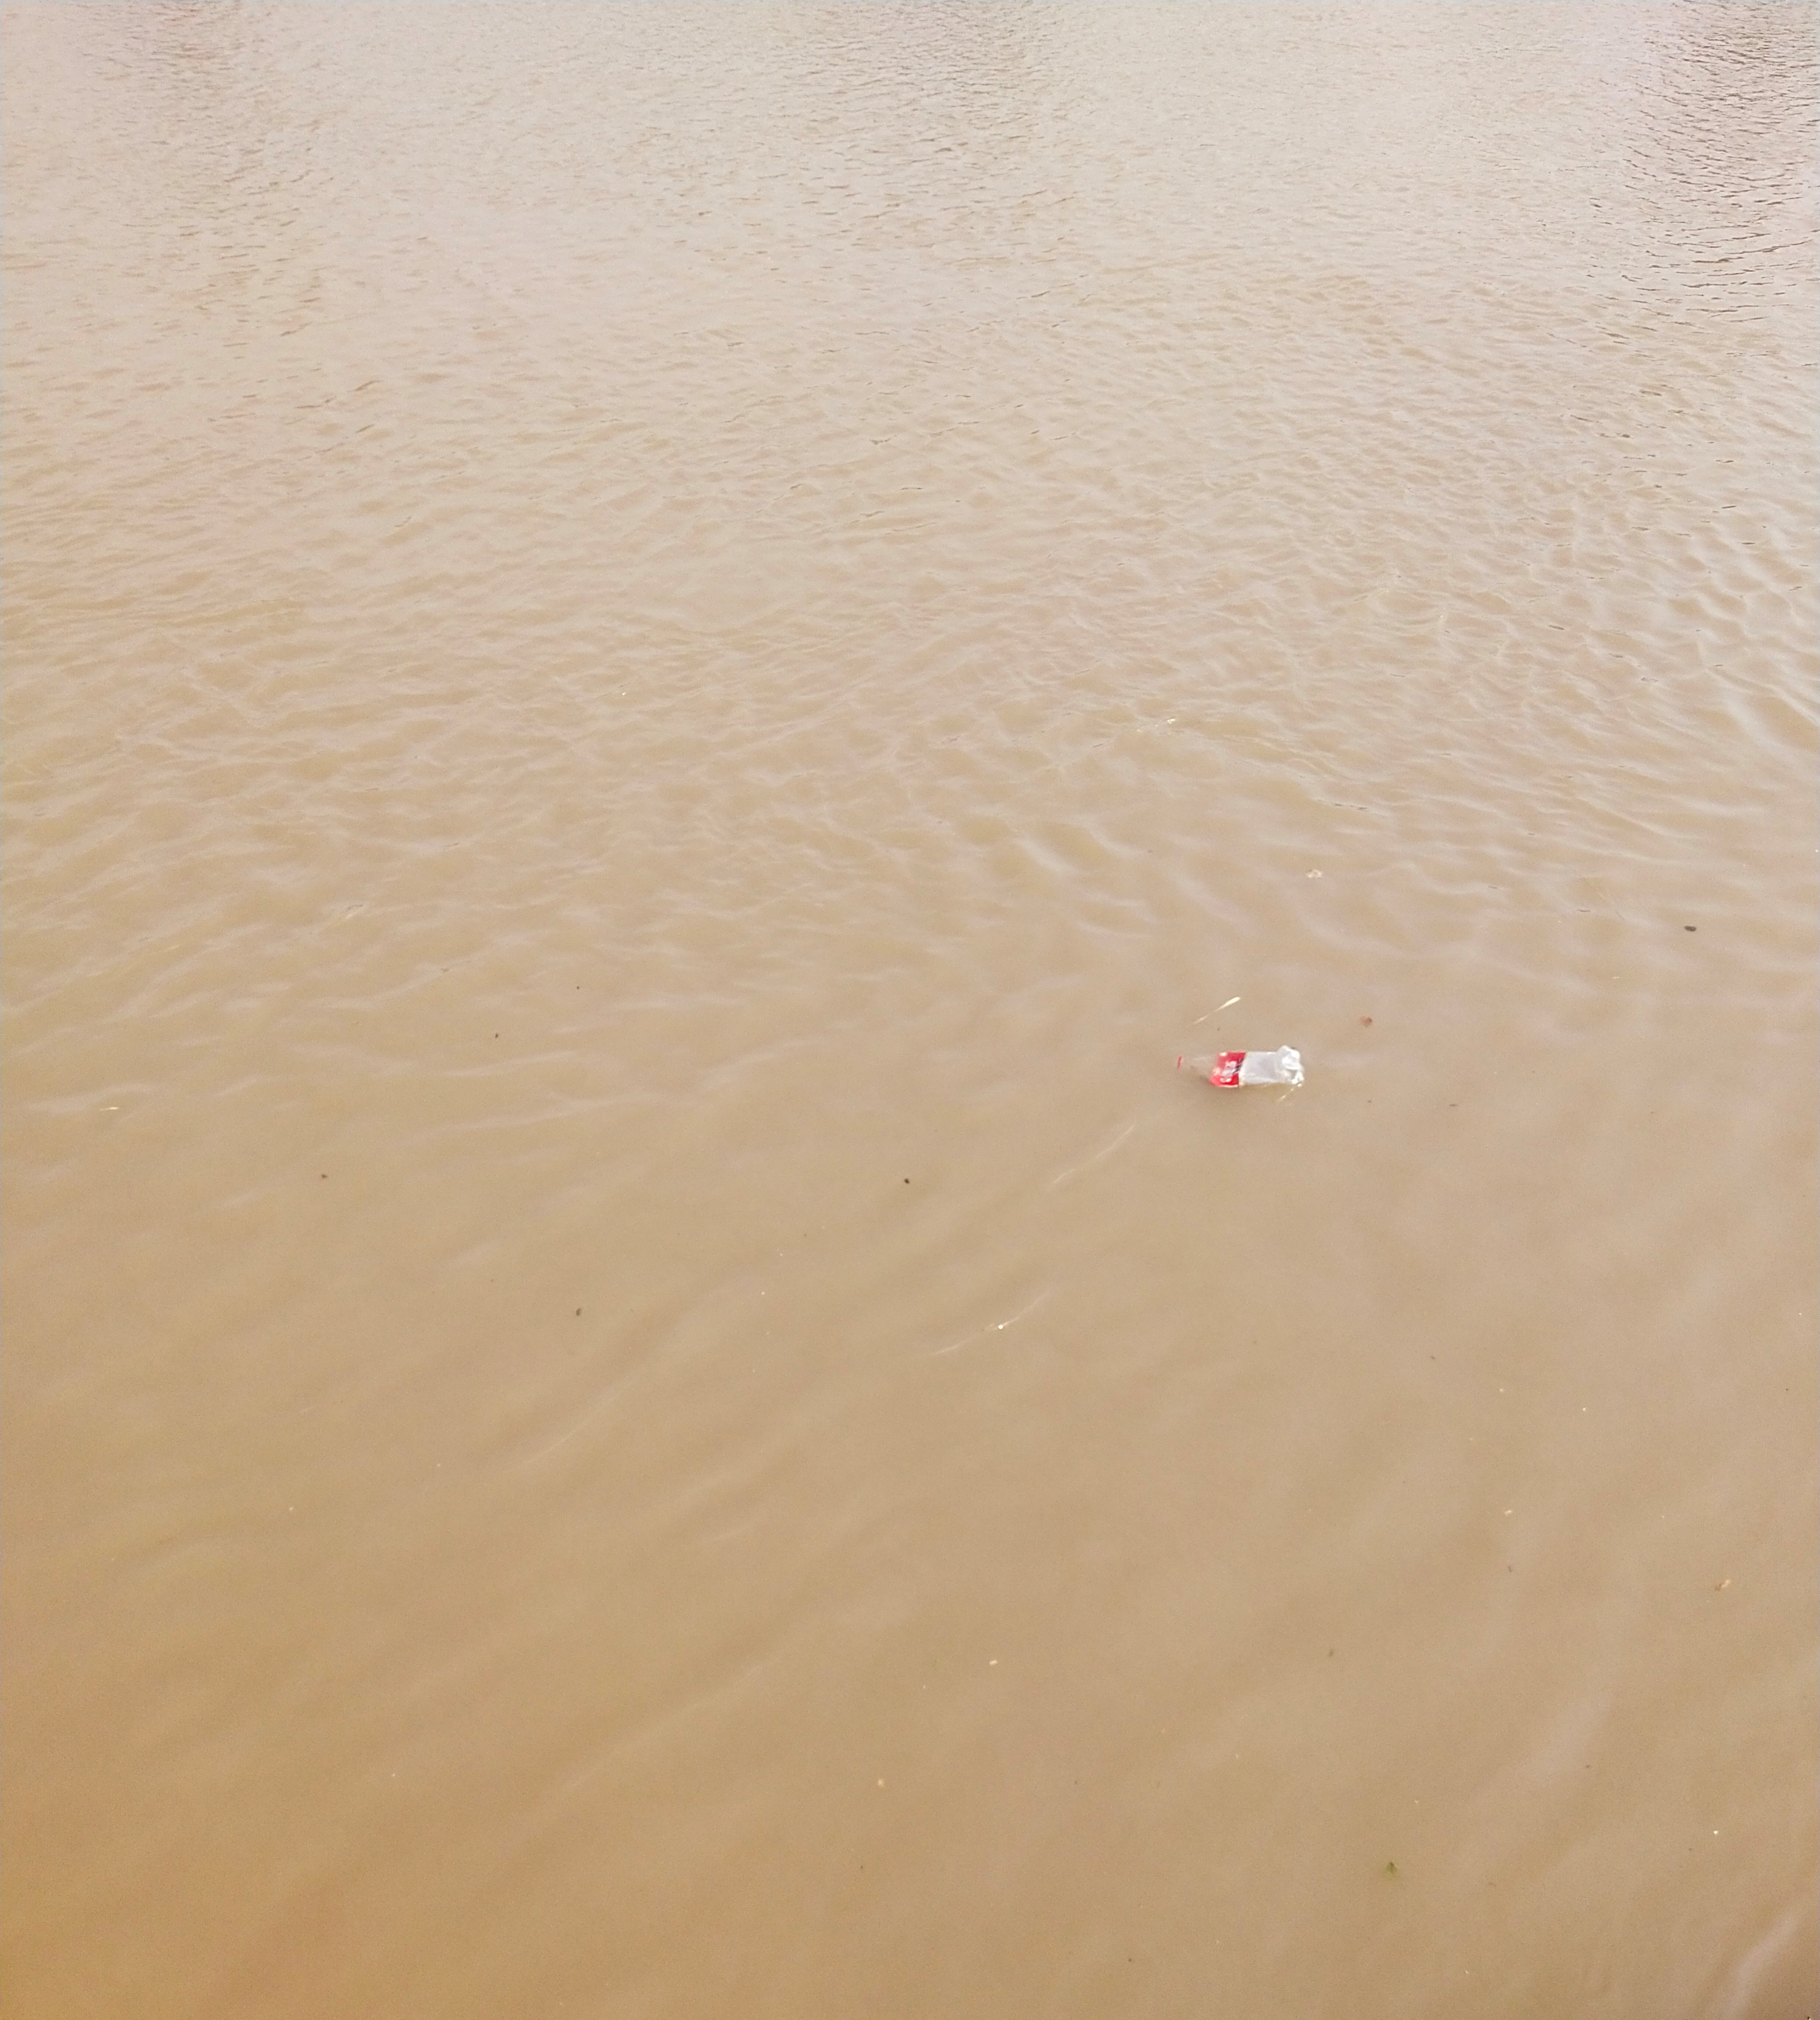Plastic Bottle: (1175, 1045, 1304, 1089)
